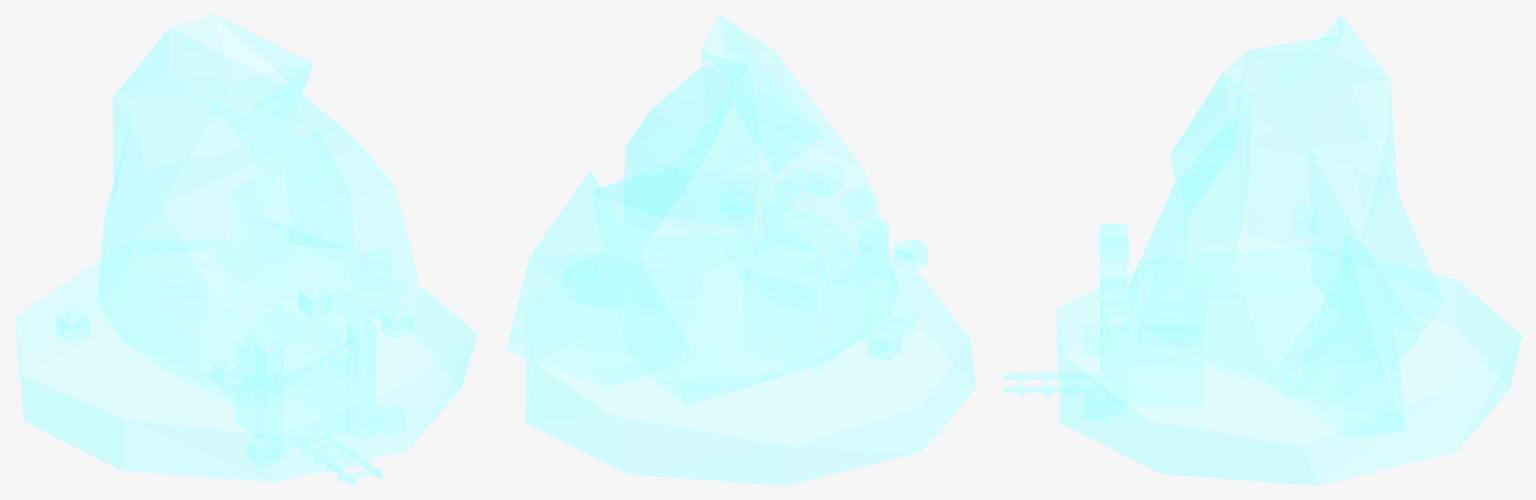
File: GH_Mountain_Iron.fbx
3 views of the same model, side by side, from view 1: azimuth 30°, elevation 25°; view 2: azimuth 150°, elevation 25°; view 3: azimuth 270°, elevation 25° (orthographic). The views are drawn at different scales.
Parts seen in each view (by area): view 1: SM_Mountain_Iron; view 2: SM_Mountain_Iron; view 3: SM_Mountain_Iron.
Boxes of the visible parts, x1,y1,x2,y2 form: SM_Mountain_Iron: (14, 14, 477, 485); SM_Mountain_Iron: (506, 14, 975, 485); SM_Mountain_Iron: (1004, 14, 1521, 485).
Size of the model in its own units: 10.26 by 8.7 by 11.35.
